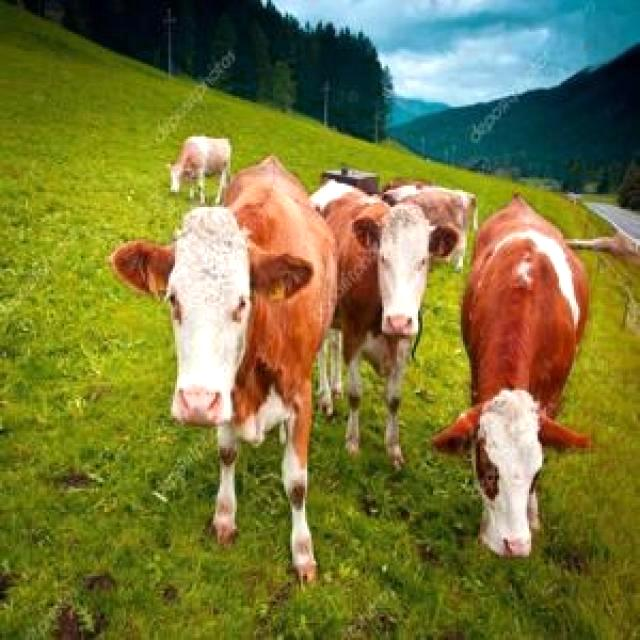COW: (111, 156, 335, 579), (434, 196, 590, 556), (311, 181, 455, 467)
